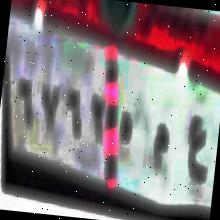2: (84, 83, 110, 148)
6: (7, 66, 38, 134), (60, 77, 86, 146)
7: (37, 70, 62, 140)
ain: (178, 107, 215, 190)
haa: (114, 96, 137, 156)
meem: (149, 115, 171, 180)
